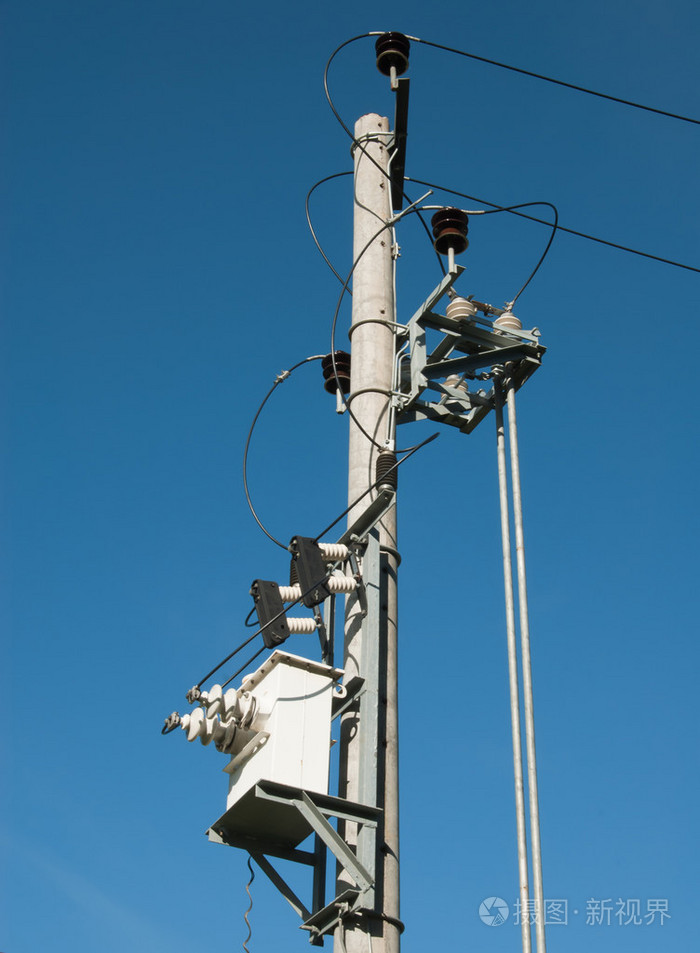insulator: (429, 204, 472, 250), (203, 684, 242, 727), (184, 707, 223, 749), (374, 31, 417, 67), (317, 350, 357, 387)
